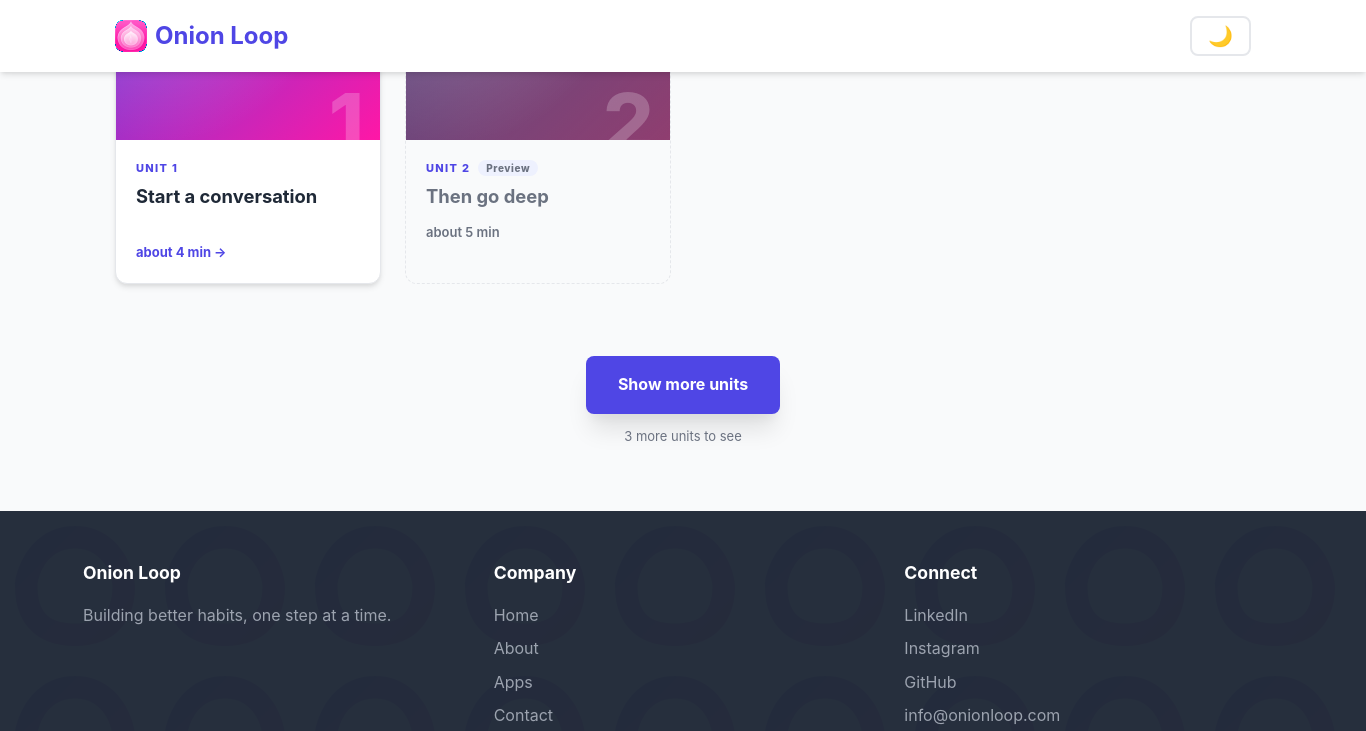
Scenario: a page that will not load keeps the tiles already here, and can be retried
(page scrolled)
Click the button "Show more units": (683, 385) [586,356,780,414]
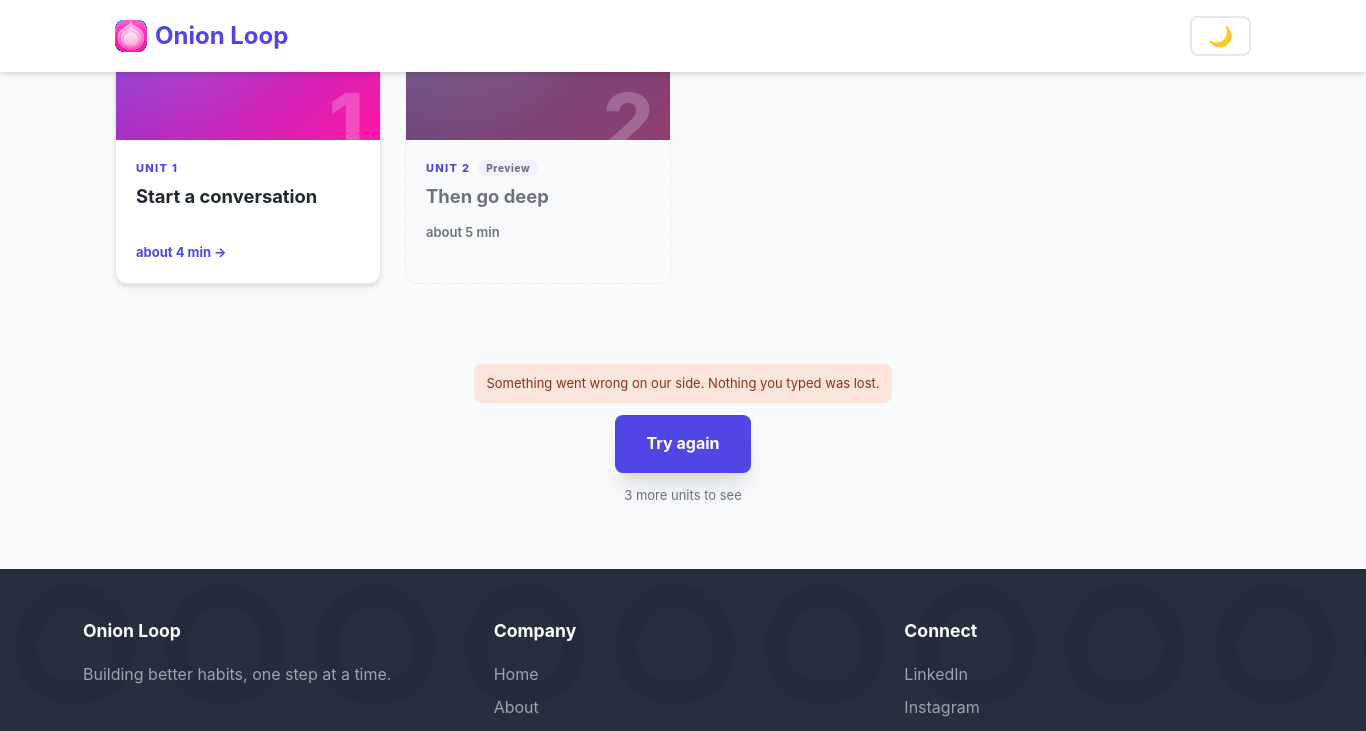
Expected: the message shows "Something went wrong on our side", [486,375,880,391]
Click the button "Try again": (683, 444) [614,415,752,473]
(page scrolled)
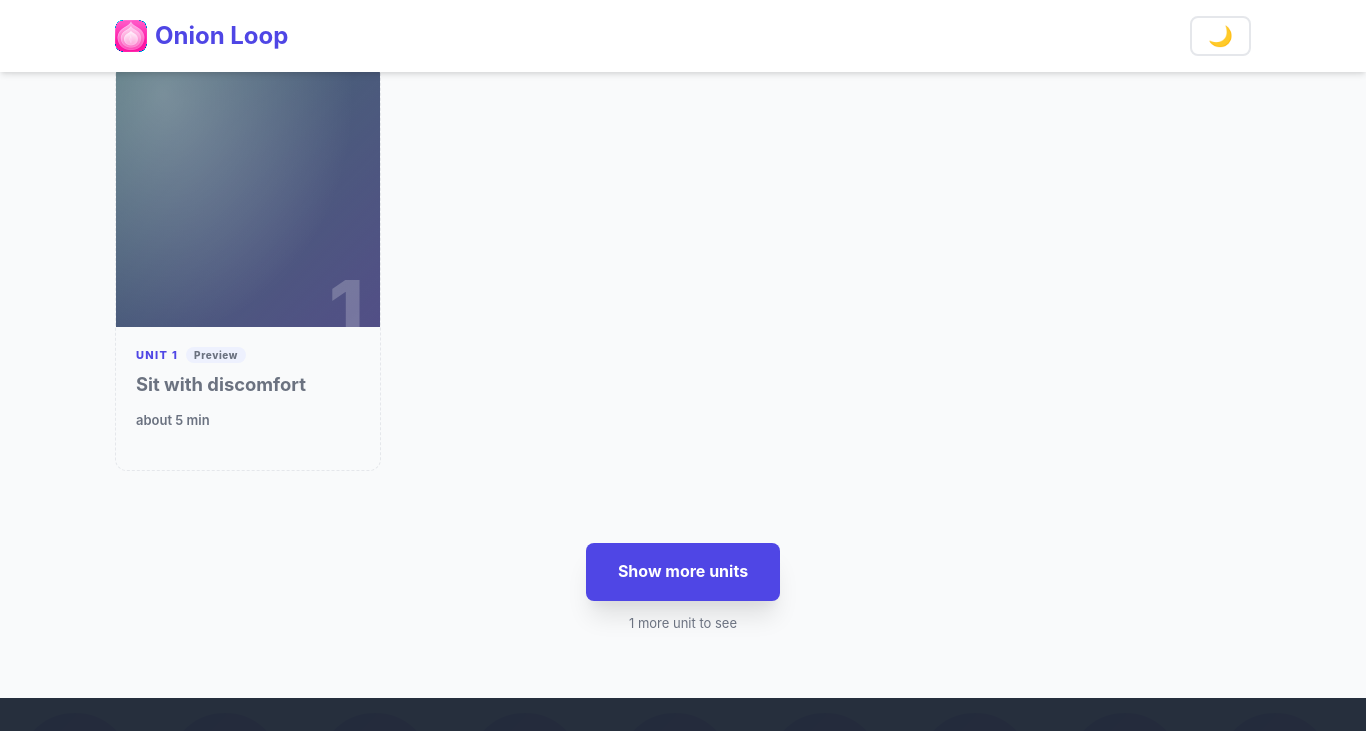
Expected: the text "Sit with discomfort" is shown, [136,372,306,394]
Expected: the message "Something went wrong on our side. Nothing you typed was lost." is gone
